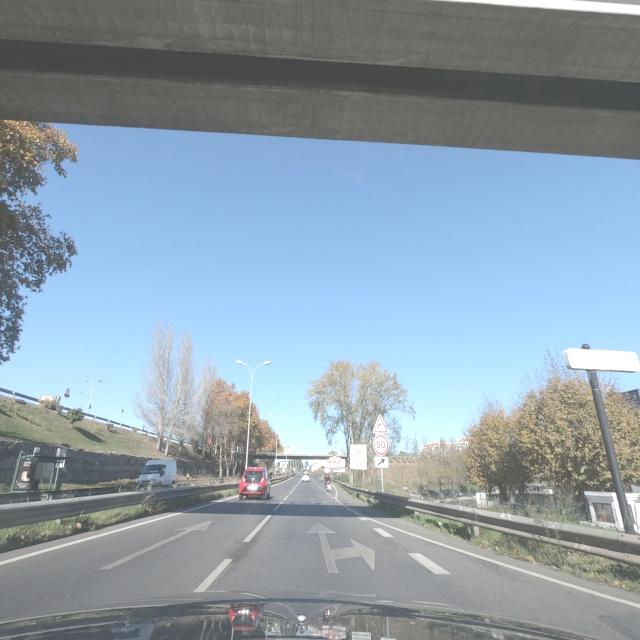car: (137, 458, 177, 489), (238, 467, 272, 500), (301, 473, 310, 482)
